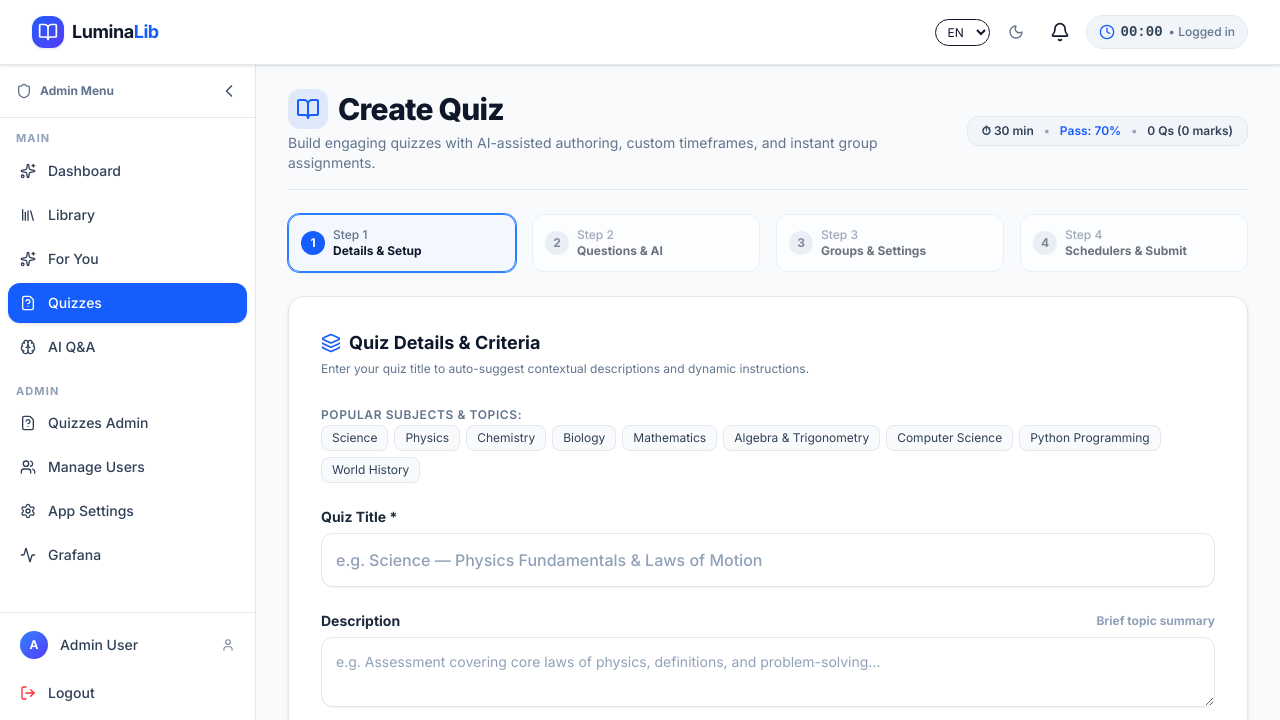
Test: Create Quiz Page Enhancements › renders Step 1 with dynamic instructions, hours/mins picker, and 70% default pass percentage
The width and height of the screenshot is (1280, 720).
Check: the heading "Create Quiz" is shown, box [288,89,504,129]
# Type Title and check dynamic instructions update
Type "Science Fundamentals" into the field with placeholder "e.g. Science — Physics Fundamentals & Laws of Motion". click: (768, 560)
box: [321,533,1215,587]
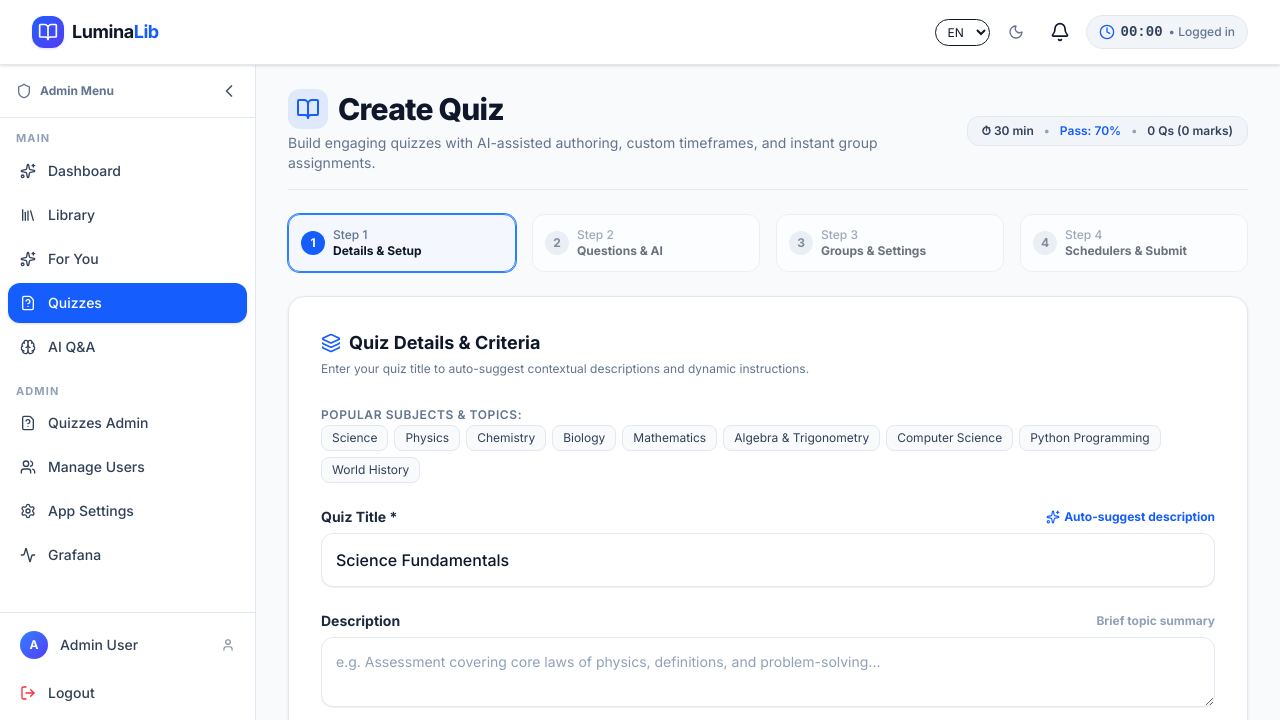
# Click a topic chip
Click the button "Physics". click: (427, 438)
box: [394,425,460,451]
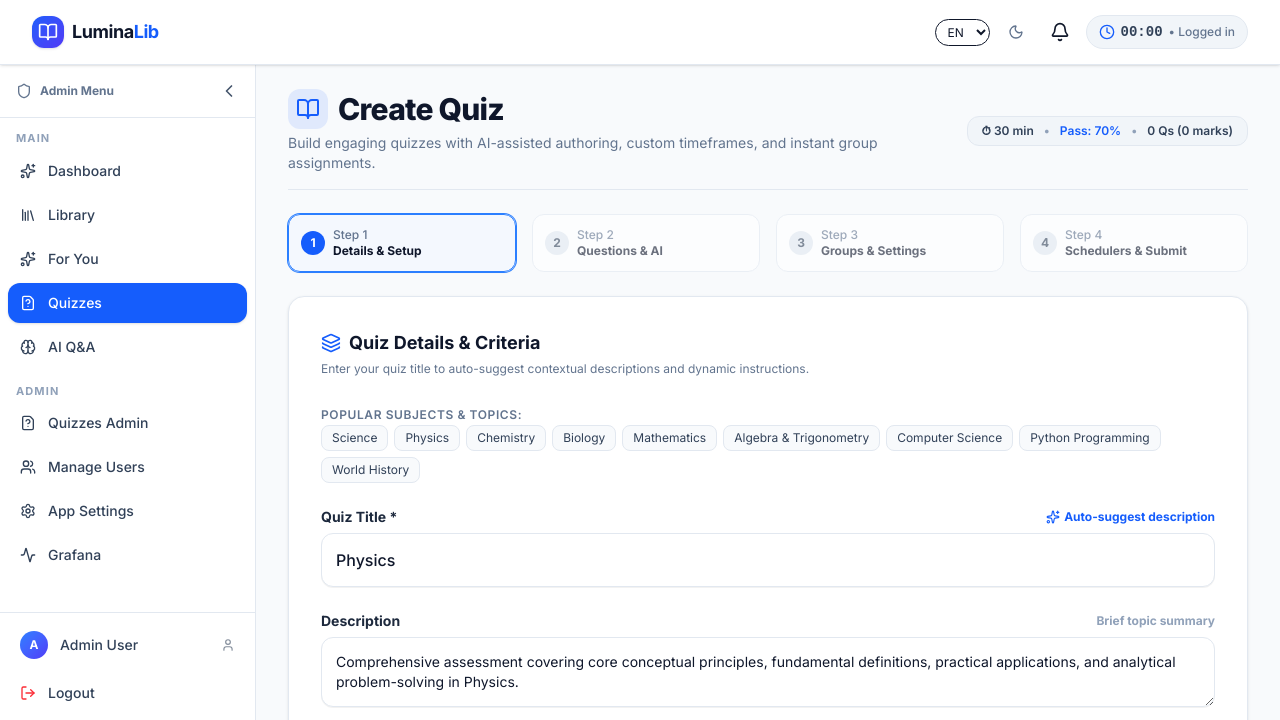
Check: the field with placeholder "e.g. Science — Physics Fundamentals & Laws of Motion" holds "Physics", box [321,533,1215,587]
